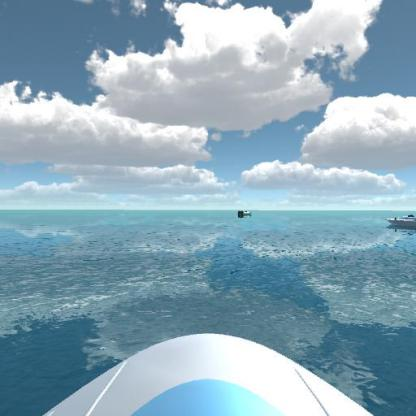usv0: (237, 207, 255, 220)
usv1: (385, 210, 415, 234)
